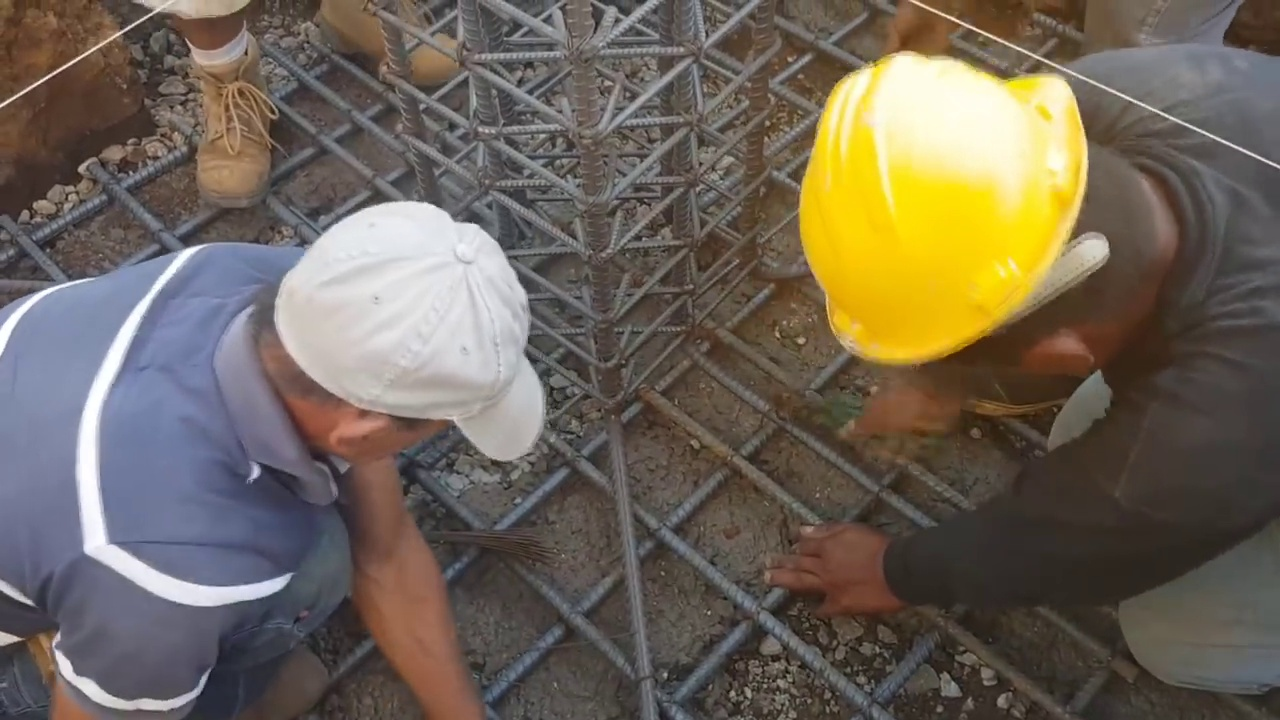helmet: (799, 54, 1093, 394)
helmet-off: (254, 205, 527, 498)
helmet-on: (795, 45, 1212, 405)
person: (725, 44, 1273, 682), (0, 193, 576, 720)
